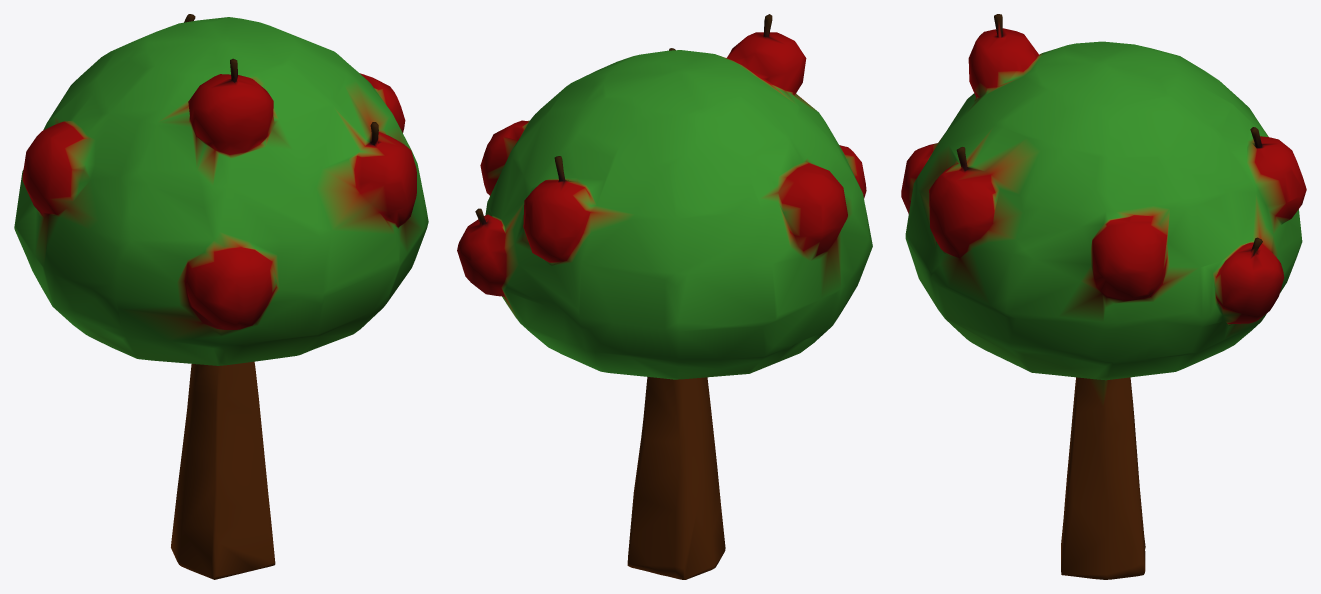
The model's file is gen3d-apple-tree-lod0.glb.
3 renders of one model, left to right at view 1: azimuth 30°, elevation 25°; view 2: azimuth 150°, elevation 25°; view 3: azimuth 270°, elevation 25°, orthographic. The views are drawn at different scales.
Visible parts, largest first — view 1: part_0; view 2: part_0; view 3: part_0.
Boxes of the visible parts, x1,y1,x2,y2 form: part_0: (14, 14, 428, 579); part_0: (457, 14, 872, 579); part_0: (901, 14, 1306, 579).
Bounding box in the file's own units: 0.7534 × 1.05 × 0.7358.
